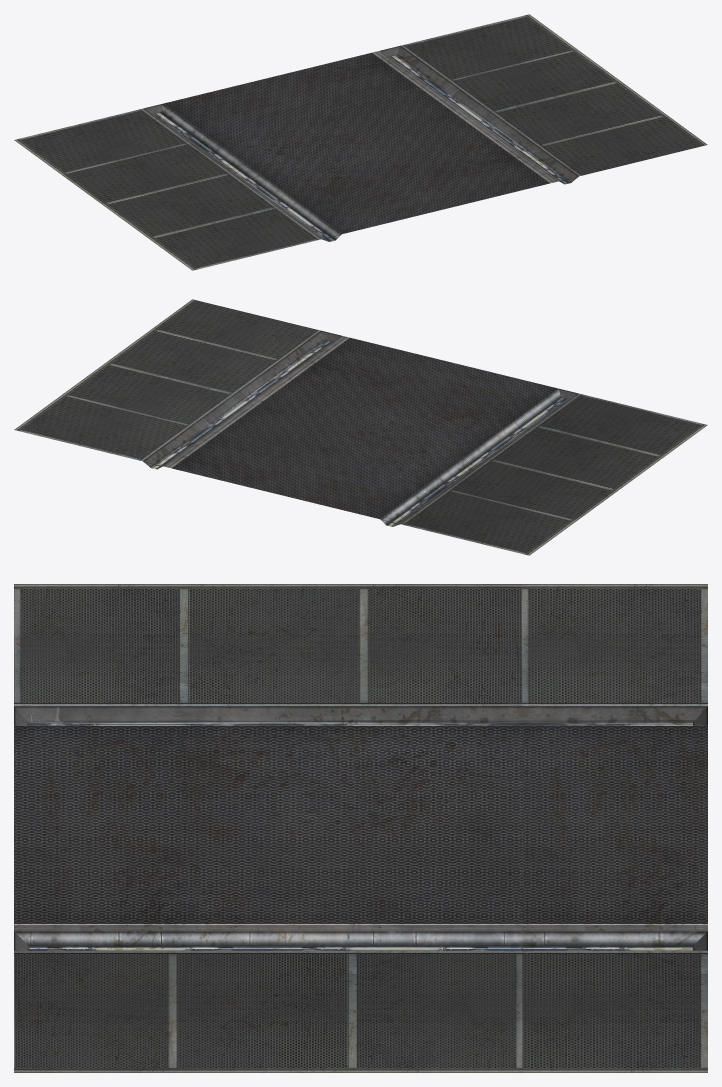
File: Floor_B_5mts_05.fbx
The picture shows the model from 3 angles, top to bottom: view 1: azimuth 30°, elevation 25°; view 2: azimuth 150°, elevation 25°; view 3: azimuth 270°, elevation 25°; orthographic projection. The views are drawn at different scales.
Parts seen in each view (by area): view 1: Floor_B_5mts_05; view 2: Floor_B_5mts_05; view 3: Floor_B_5mts_05.
Part boxes in pixels (box(x1,y1,x2,y2)): Floor_B_5mts_05: box(14, 14, 707, 270); Floor_B_5mts_05: box(14, 299, 707, 555); Floor_B_5mts_05: box(14, 584, 707, 1072).
Bounding box in the file's own units: 500 × 4.45 × 300.
1 material, 1 textured.
